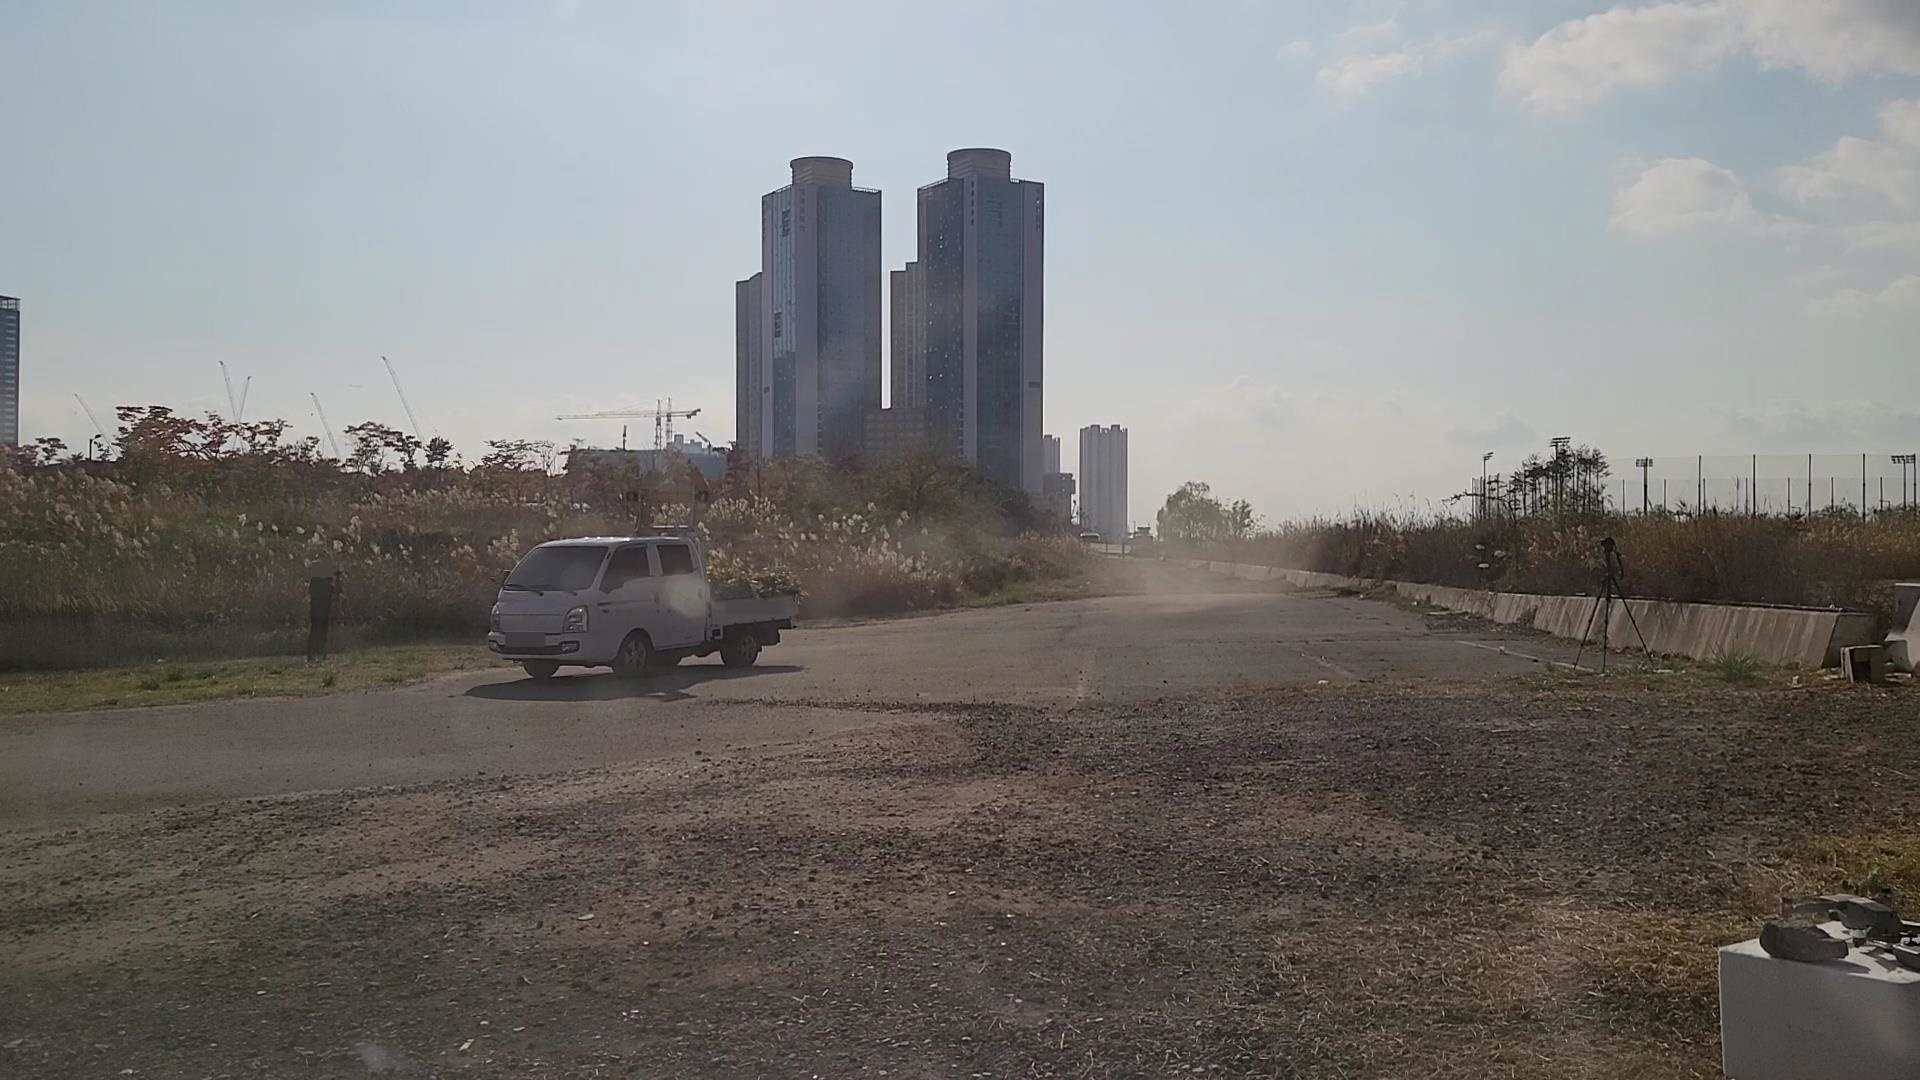불법차량: (487, 465, 808, 678)
